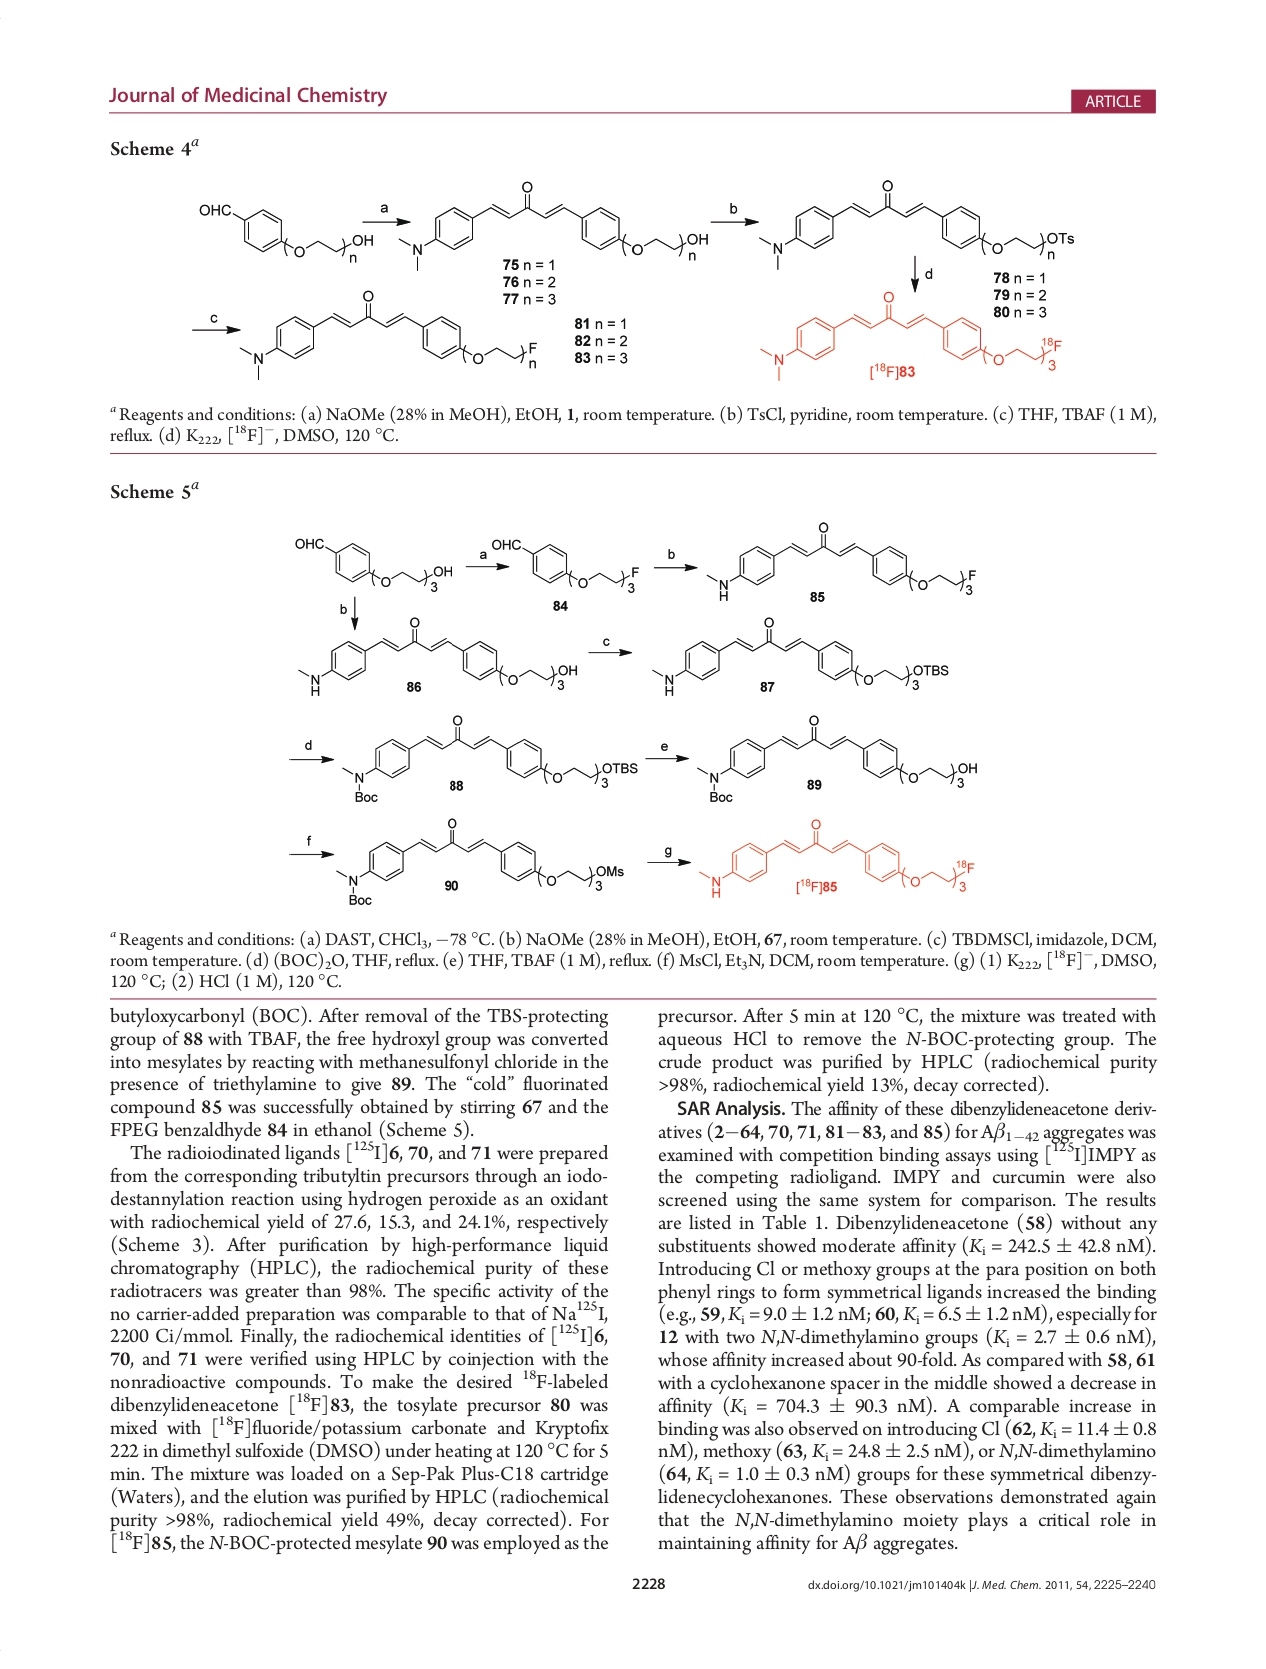exist_molecular: (755, 176, 1077, 271), (757, 289, 1065, 384), (338, 711, 642, 807), (398, 180, 710, 271), (237, 289, 541, 380), (332, 814, 629, 906), (692, 711, 980, 805), (648, 612, 948, 696), (293, 614, 581, 698), (703, 520, 981, 604), (697, 817, 980, 898), (193, 199, 374, 266), (291, 532, 456, 593), (489, 535, 644, 594)
